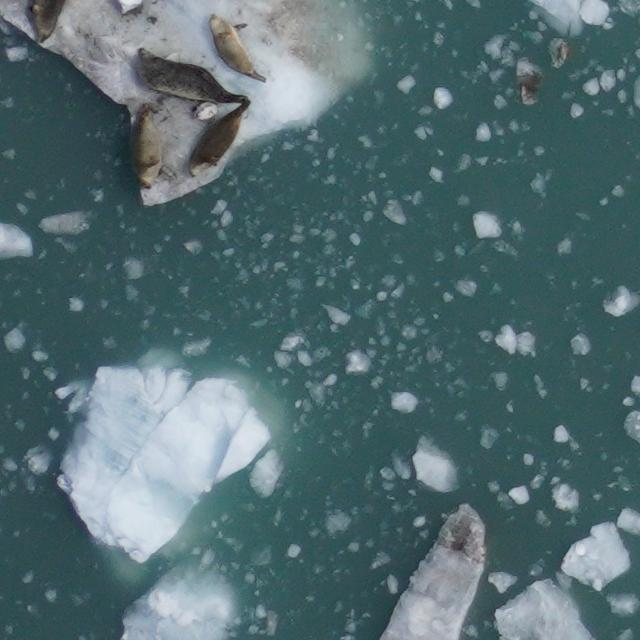seal: (133, 45, 250, 108), (185, 98, 254, 182), (208, 11, 270, 85), (125, 99, 163, 192)
